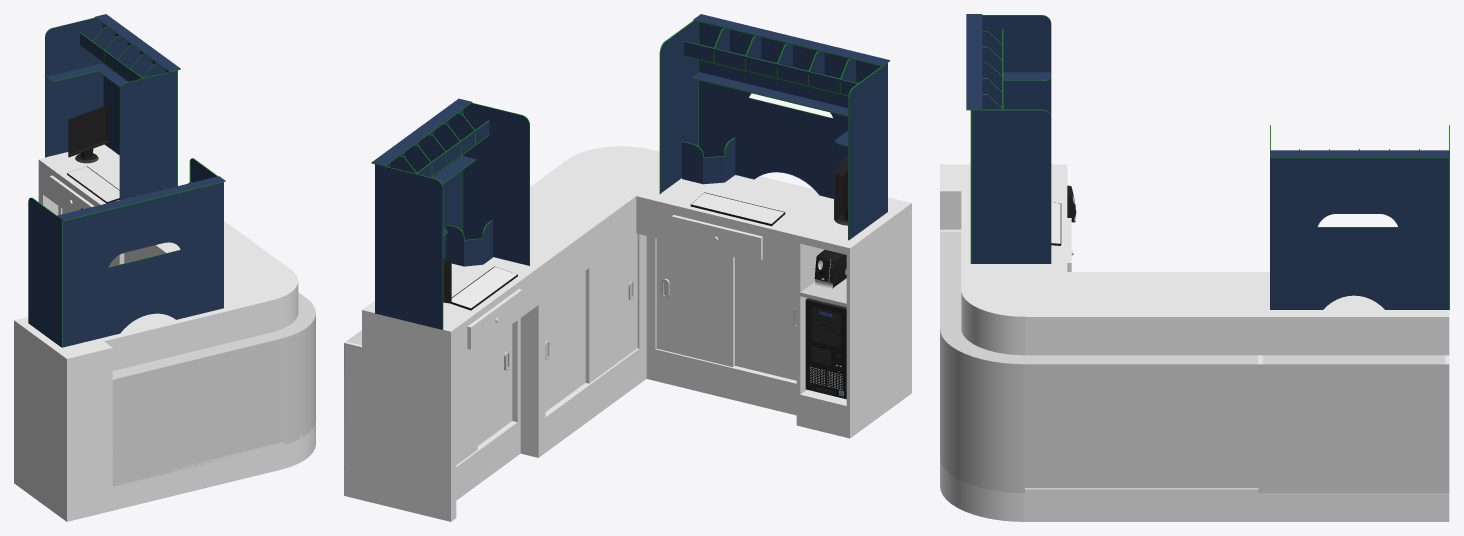
The model's file is caffe.fbx.
The picture shows the model from 3 angles, left to right: view 1: azimuth 30°, elevation 25°; view 2: azimuth 150°, elevation 25°; view 3: azimuth 270°, elevation 25°; orthographic projection. The views are drawn at different scales.
Parts seen in each view (by area): view 1: Layer0_001, Group_021, Group_020, Group_010, Group_002, Group#43_001, Group_005, Group_012, Group_018; view 2: Layer0_001, Group_021, Group_010, Lian-li pc-61_001, Group_023, Group_008, Group#43_002, Group_005, Group#43_001, Estabilizador - alex.martimiano@gmail.com_001, Group_012, Group_001 (+1 smaller); view 3: Group_020, Layer0_001, Group_010, Group_021.
Boxes of the visible parts, bbox=[...] form: Layer0_001: bbox=[14, 144, 315, 521]; Group_021: bbox=[28, 158, 225, 347]; Group_020: bbox=[112, 292, 315, 486]; Group_010: bbox=[45, 14, 180, 199]; Group_002: bbox=[68, 104, 109, 163]; Group#43_001: bbox=[67, 166, 119, 203]; Group_005: bbox=[49, 175, 94, 211]; Group_012: bbox=[80, 32, 142, 81]; Group_018: bbox=[45, 66, 97, 81]; Layer0_001: bbox=[344, 146, 911, 521]; Group_021: bbox=[659, 14, 890, 240]; Group_010: bbox=[371, 98, 529, 329]; Lian-li pc-61_001: bbox=[805, 298, 846, 399]; Group_023: bbox=[684, 41, 857, 95]; Group_008: bbox=[671, 215, 762, 260]; Group#43_002: bbox=[690, 192, 785, 226]; Group_005: bbox=[467, 289, 522, 349]; Group#43_001: bbox=[451, 266, 517, 310]; Estabilizador - alex.martimiano@gmail.com_001: bbox=[814, 249, 846, 288]; Group_012: bbox=[416, 120, 489, 177]; Group_001: bbox=[834, 155, 847, 225]; Group_020: bbox=[940, 231, 1449, 492]; Layer0_001: bbox=[940, 164, 1449, 521]; Group_010: bbox=[1270, 125, 1449, 309]; Group_021: bbox=[966, 14, 1051, 263].
Size of the model in its own units: 70.87 by 71.85 by 94.61.
